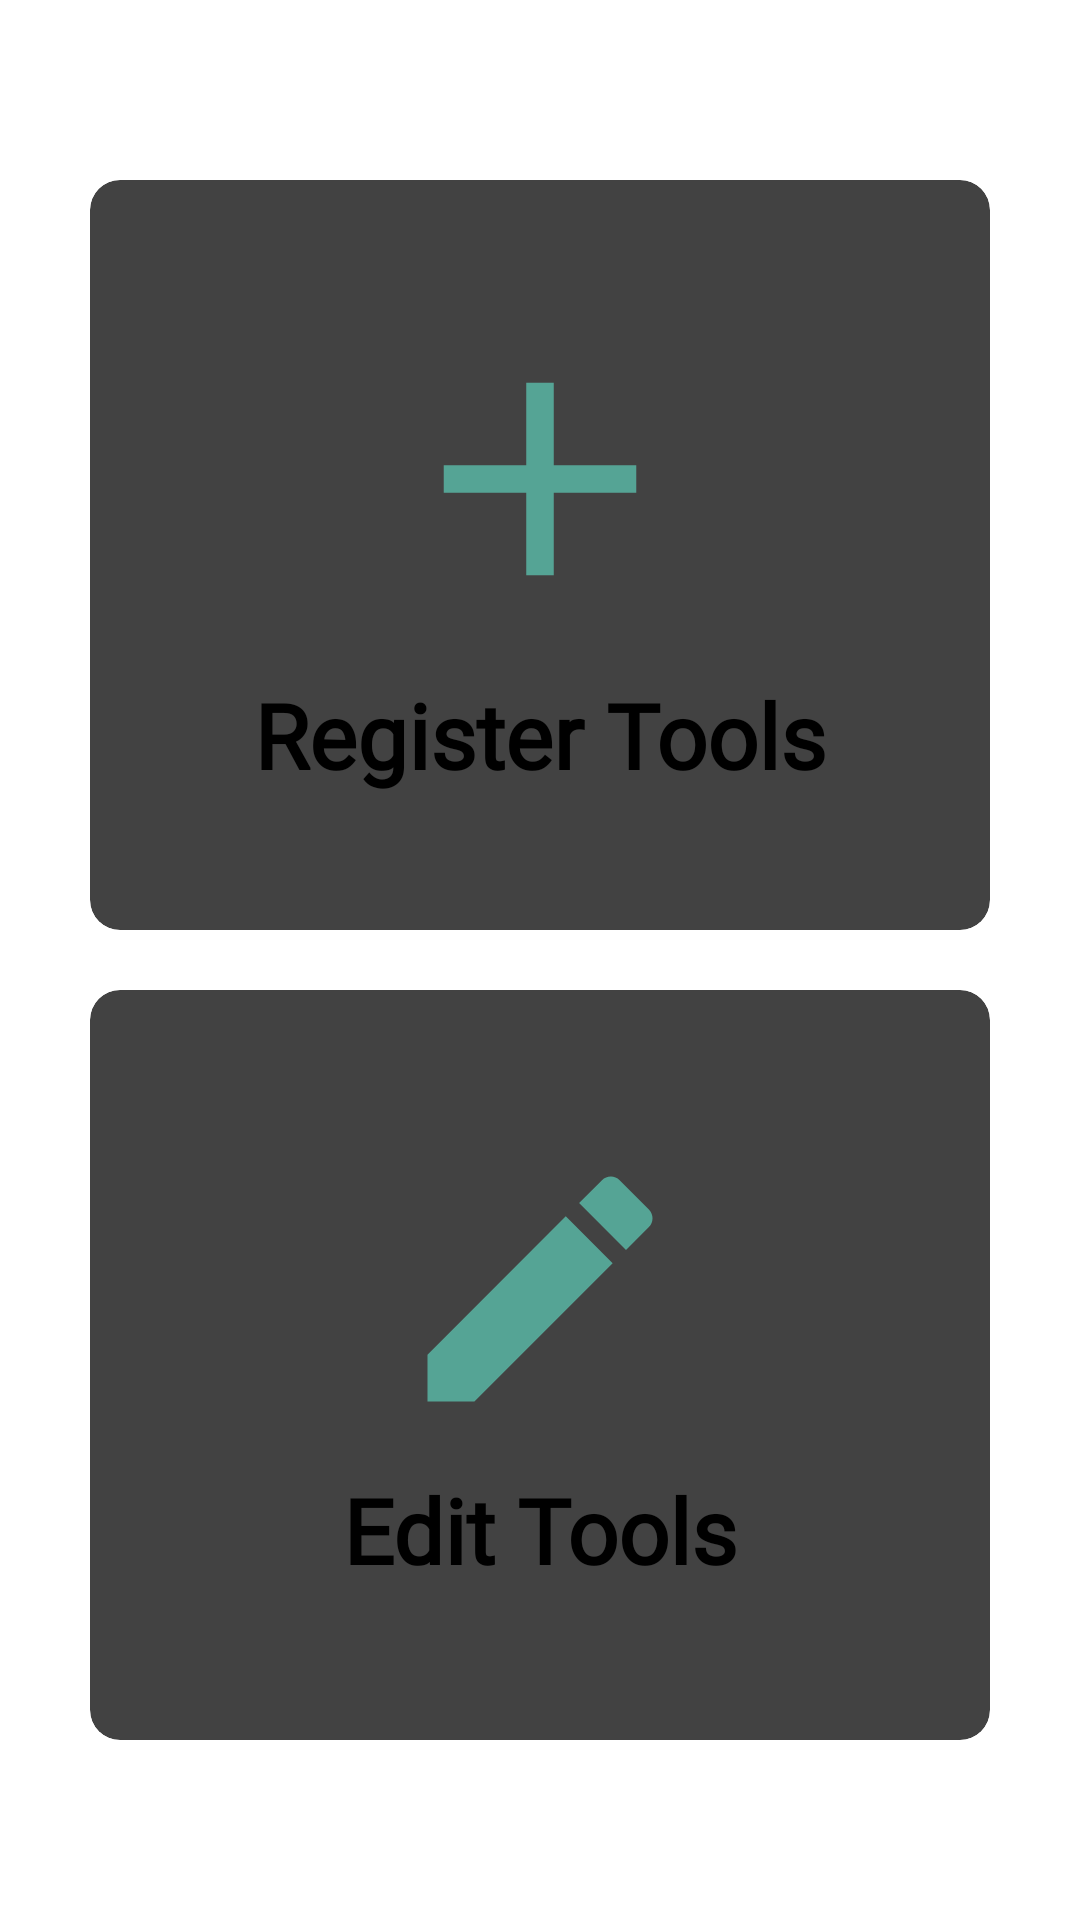

Icon bounding boxes for this 1080w x 1920h phone screenshot, format (x1, y1, x2, y2):
add: (443, 382, 637, 576)
